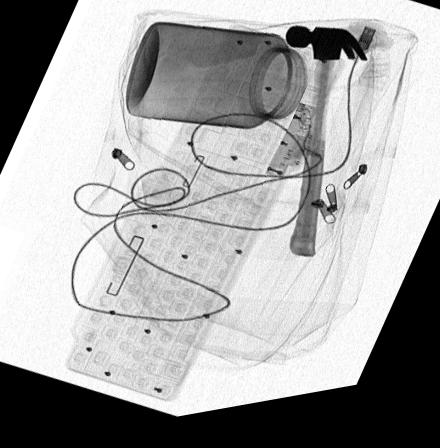Hammer: (285, 35, 368, 268)
